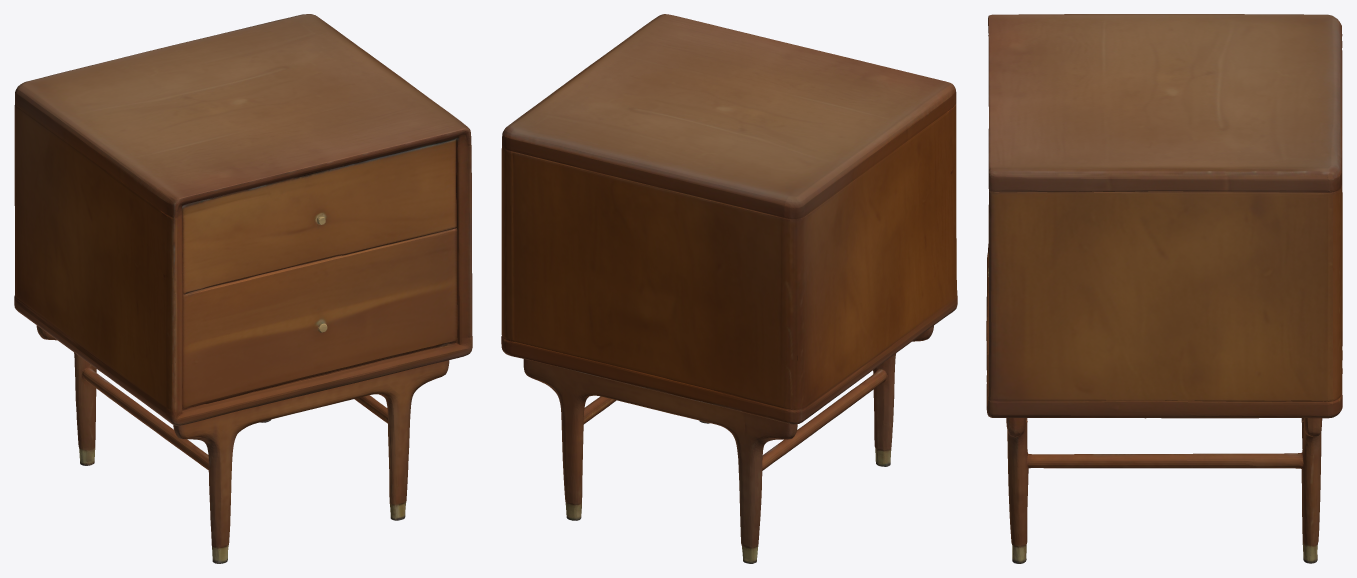
File: supermat_pbr.glb
3 renders of one model, left to right at view 1: azimuth 30°, elevation 25°; view 2: azimuth 150°, elevation 25°; view 3: azimuth 270°, elevation 25°, orthographic. The views are drawn at different scales.
Parts seen in each view (by area): view 1: world; view 2: world; view 3: world.
Part boxes in pixels (left/top/right/bottom): world: left=14, top=14, right=472, bottom=563; world: left=501, top=14, right=957, bottom=563; world: left=986, top=14, right=1342, bottom=563.
Size of the model in its own units: 0.8252 by 1 by 0.7661.
1 material, 1 textured.
